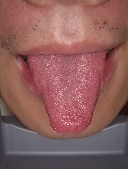tongue: (25, 58, 107, 135)
